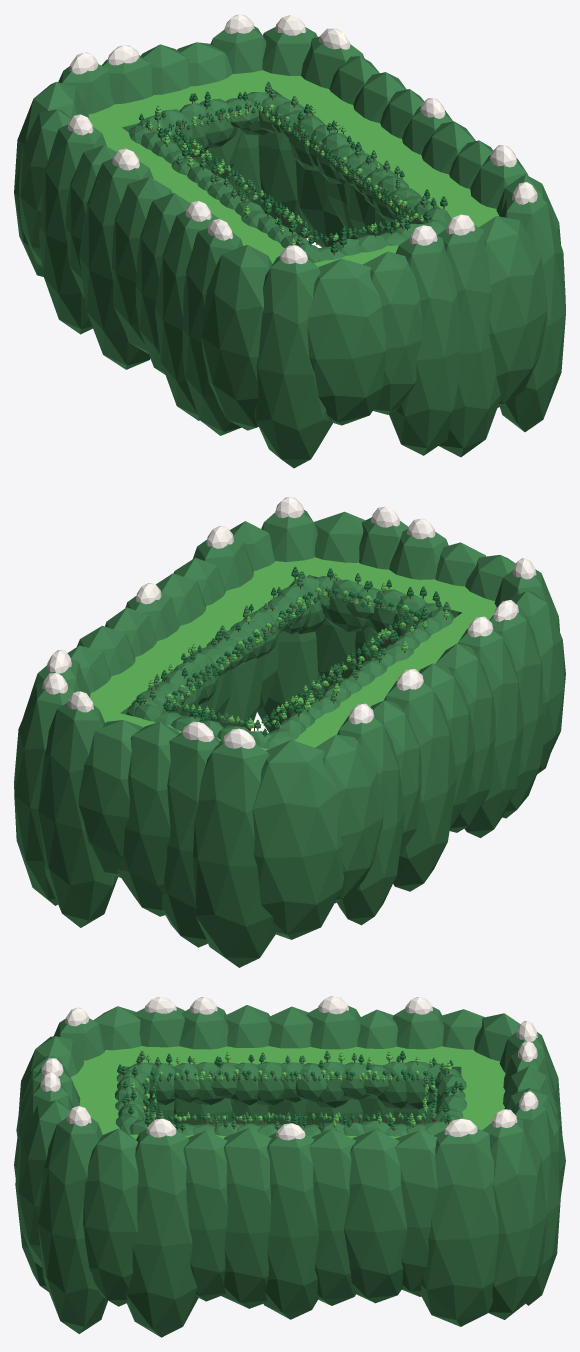
File: CatCafe_Woods_BackdropF85.glb
3 renders of one model, top to bottom at view 1: azimuth 30°, elevation 25°; view 2: azimuth 150°, elevation 25°; view 3: azimuth 270°, elevation 25°, orthographic. The views are drawn at different scales.
Parts seen in each view (by area): view 1: CatCafe_Woods_BackdropF85_HillsFar, CatCafe_Woods_BackdropF85_Hills, CatCafe_Woods_BackdropF85_Ground, CatCafe_Woods_BackdropF85, CatCafe_Woods_BackdropF85_Snow; view 2: CatCafe_Woods_BackdropF85_HillsFar, CatCafe_Woods_BackdropF85_Hills, CatCafe_Woods_BackdropF85_Ground, CatCafe_Woods_BackdropF85, CatCafe_Woods_BackdropF85_Snow; view 3: CatCafe_Woods_BackdropF85_HillsFar, CatCafe_Woods_BackdropF85_Hills, CatCafe_Woods_BackdropF85_Ground, CatCafe_Woods_BackdropF85, CatCafe_Woods_BackdropF85_Snow.
Boxes of the visible parts, <box> form: CatCafe_Woods_BackdropF85_HillsFar: <box>14,26,565,468</box>; CatCafe_Woods_BackdropF85_Hills: <box>128,92,451,263</box>; CatCafe_Woods_BackdropF85_Ground: <box>88,70,498,266</box>; CatCafe_Woods_BackdropF85: <box>139,81,447,255</box>; CatCafe_Woods_BackdropF85_Snow: <box>67,14,537,264</box>; CatCafe_Woods_BackdropF85_HillsFar: <box>14,510,565,967</box>; CatCafe_Woods_BackdropF85_Hills: <box>126,576,454,749</box>; CatCafe_Woods_BackdropF85_Ground: <box>90,557,496,750</box>; CatCafe_Woods_BackdropF85: <box>136,566,450,736</box>; CatCafe_Woods_BackdropF85_Snow: <box>42,497,536,748</box>; CatCafe_Woods_BackdropF85_HillsFar: <box>14,1005,565,1337</box>; CatCafe_Woods_BackdropF85_Hills: <box>115,1061,466,1136</box>; CatCafe_Woods_BackdropF85_Ground: <box>71,1046,505,1139</box>; CatCafe_Woods_BackdropF85: <box>117,1050,463,1132</box>; CatCafe_Woods_BackdropF85_Snow: <box>40,996,538,1140</box>.
Size of the model in its own units: 748 by 501 by 1099.
1 material, 1 textured.
